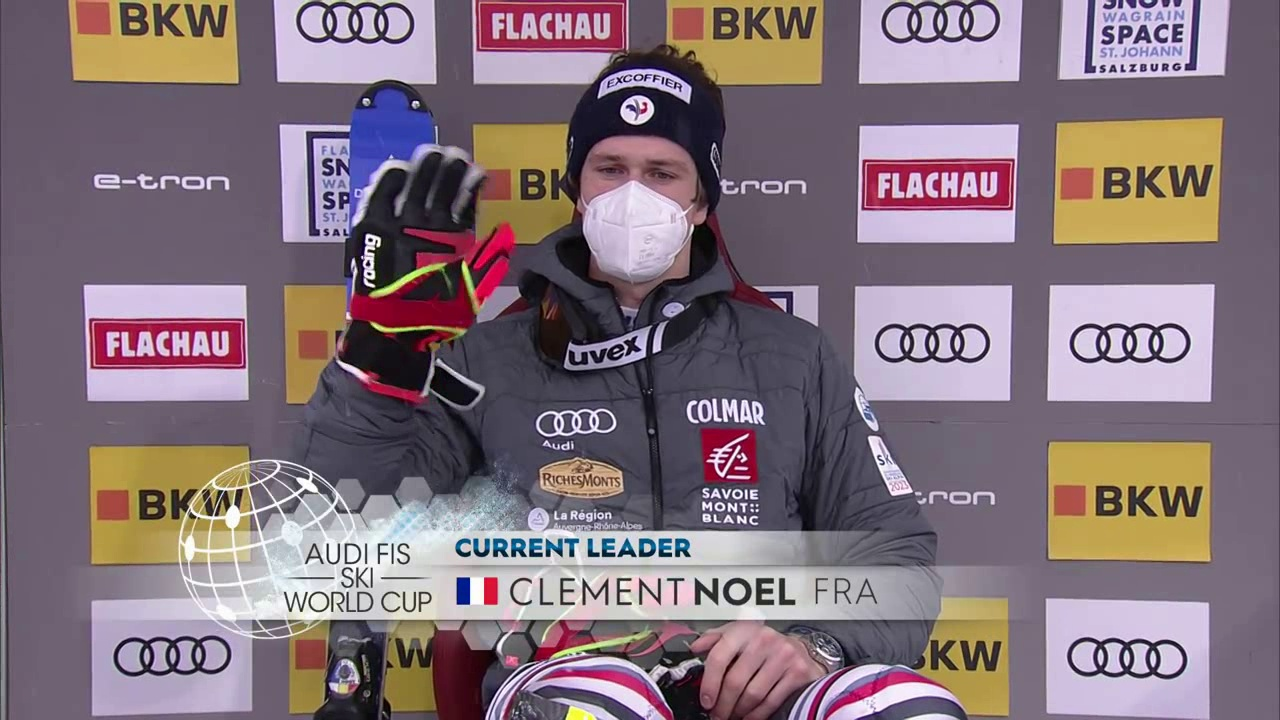BKW: (1049, 454, 1205, 543), (1058, 137, 1208, 220), (92, 463, 230, 542), (672, 4, 817, 67)
audi: (879, 1, 1001, 52), (110, 634, 232, 684), (294, 1, 416, 51), (1071, 321, 1194, 370), (1066, 637, 1191, 685), (874, 321, 994, 370), (533, 407, 621, 448)
etron: (84, 172, 237, 198), (887, 483, 1002, 511), (712, 177, 808, 202)
flachau: (870, 157, 1008, 216), (96, 319, 235, 373), (484, 1, 620, 56)
rauch: (536, 464, 628, 500)
